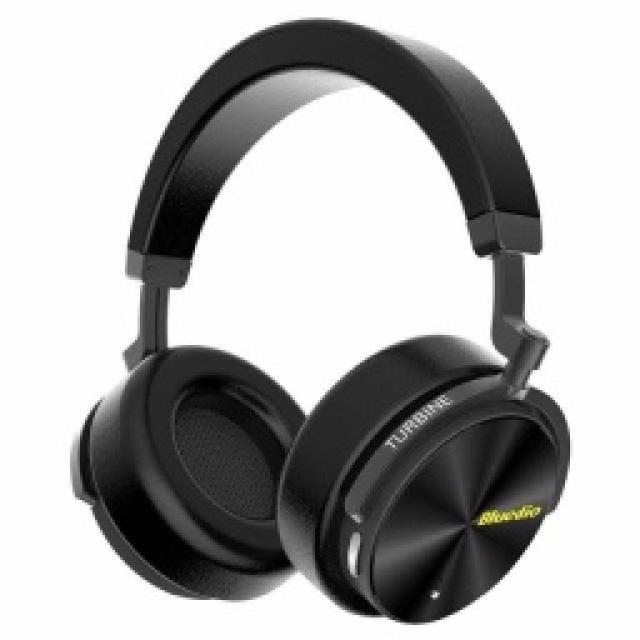headphones: (68, 15, 572, 623)
